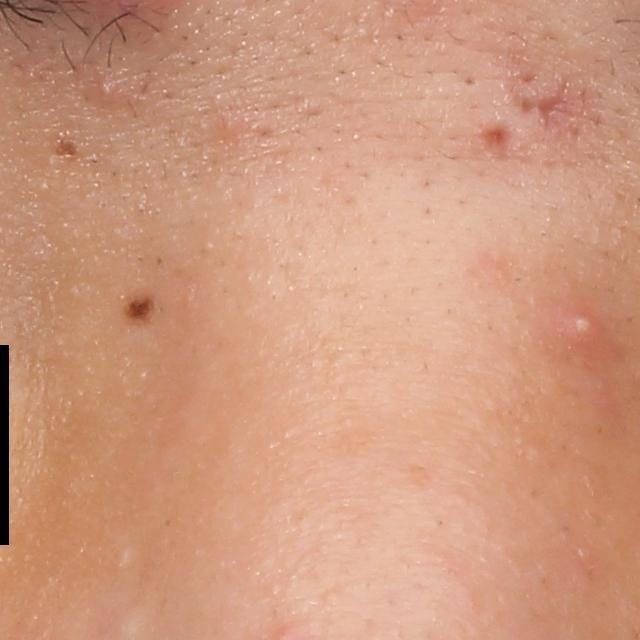atrophic_scar: (517, 70, 575, 132), (478, 120, 517, 155)
nevus: (124, 289, 157, 322), (51, 137, 84, 159)
